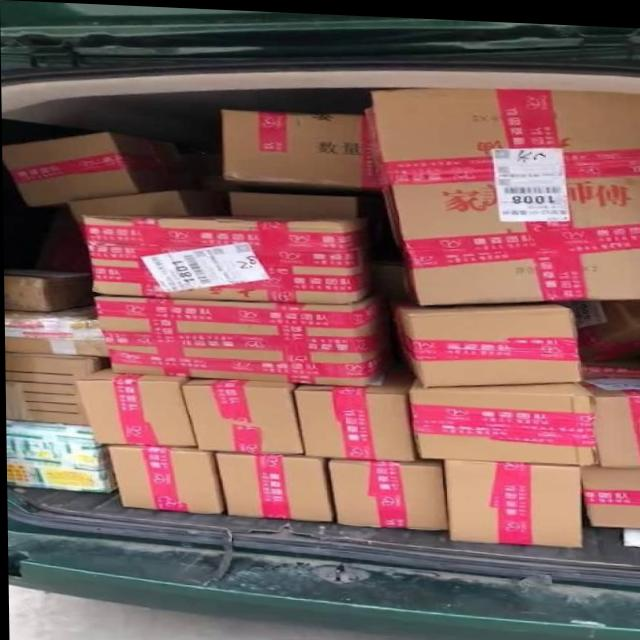box: (370, 83, 640, 301), (93, 294, 385, 383), (81, 214, 369, 300), (407, 371, 592, 459), (394, 296, 580, 383), (221, 107, 381, 187), (440, 456, 582, 543), (2, 132, 156, 209), (291, 380, 415, 458), (74, 365, 193, 445), (182, 376, 304, 452), (328, 454, 447, 526), (214, 450, 331, 520), (106, 445, 224, 513), (6, 420, 118, 491), (5, 353, 104, 425), (576, 368, 640, 463), (4, 301, 107, 356), (65, 189, 189, 227), (578, 459, 640, 523), (3, 266, 91, 311), (229, 189, 358, 215), (575, 295, 640, 335)
